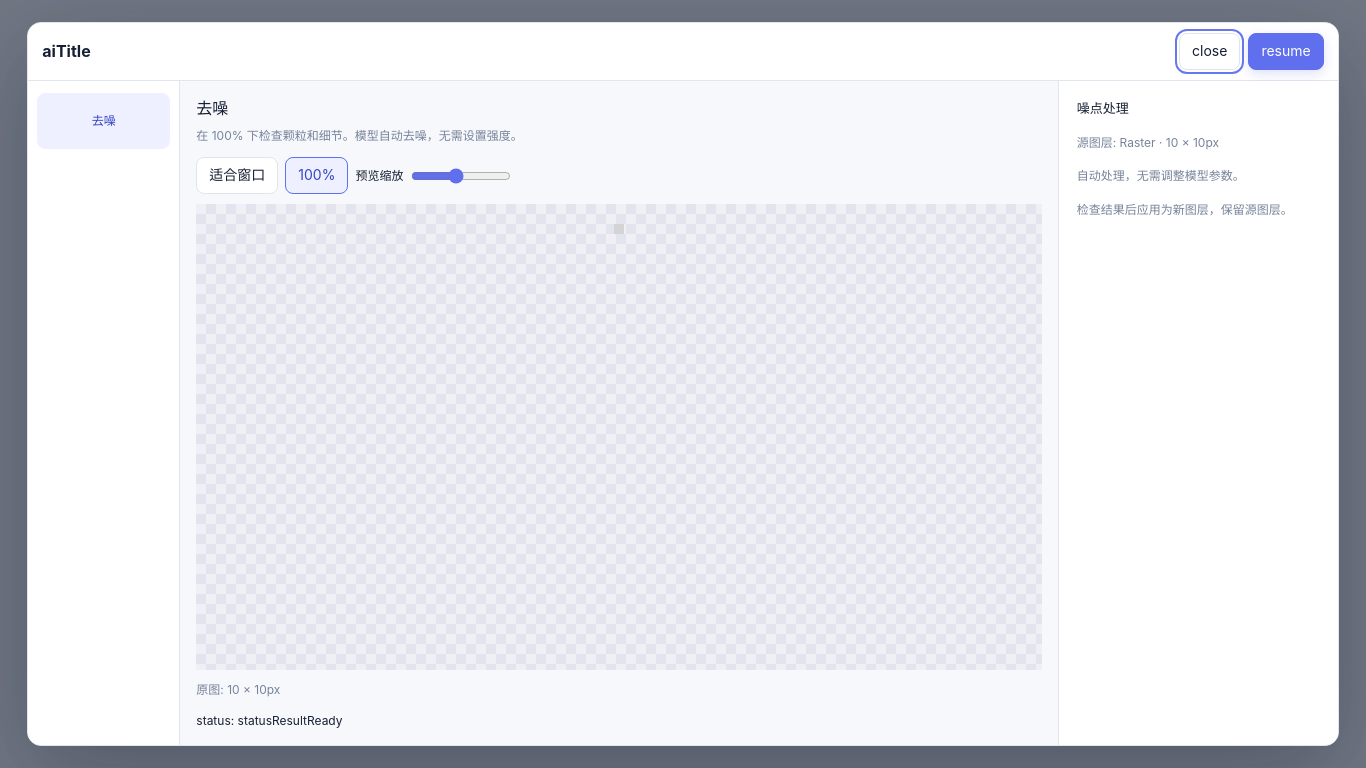
Image Studio AI result recovery dialog › stops only the current browser wait and leaves the same operation resumable
The width and height of the screenshot is (1366, 768).
Step 1. Click the button "resume" → (1286, 51), box 1248,33 -> 1324,70
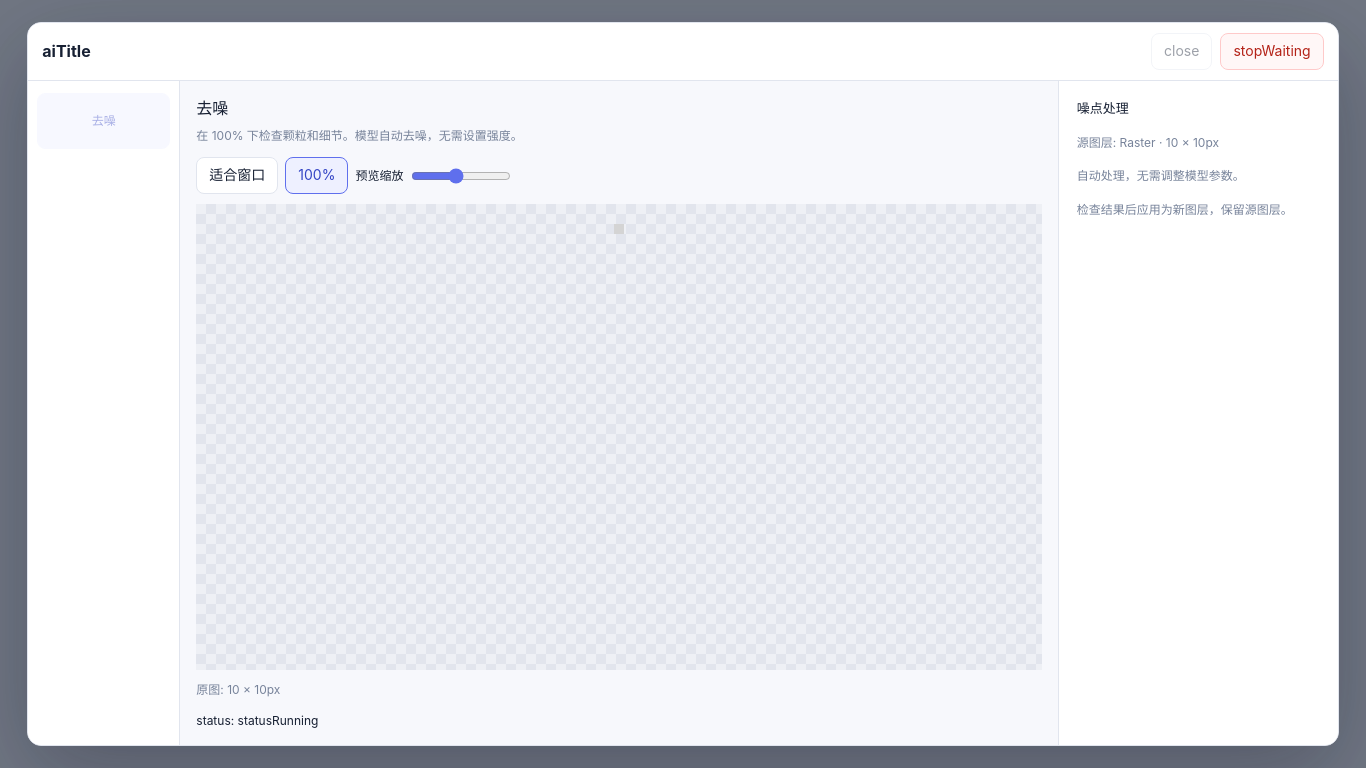
Step 2. Click the button "stopWaiting" → (1272, 51), box 1220,33 -> 1324,70
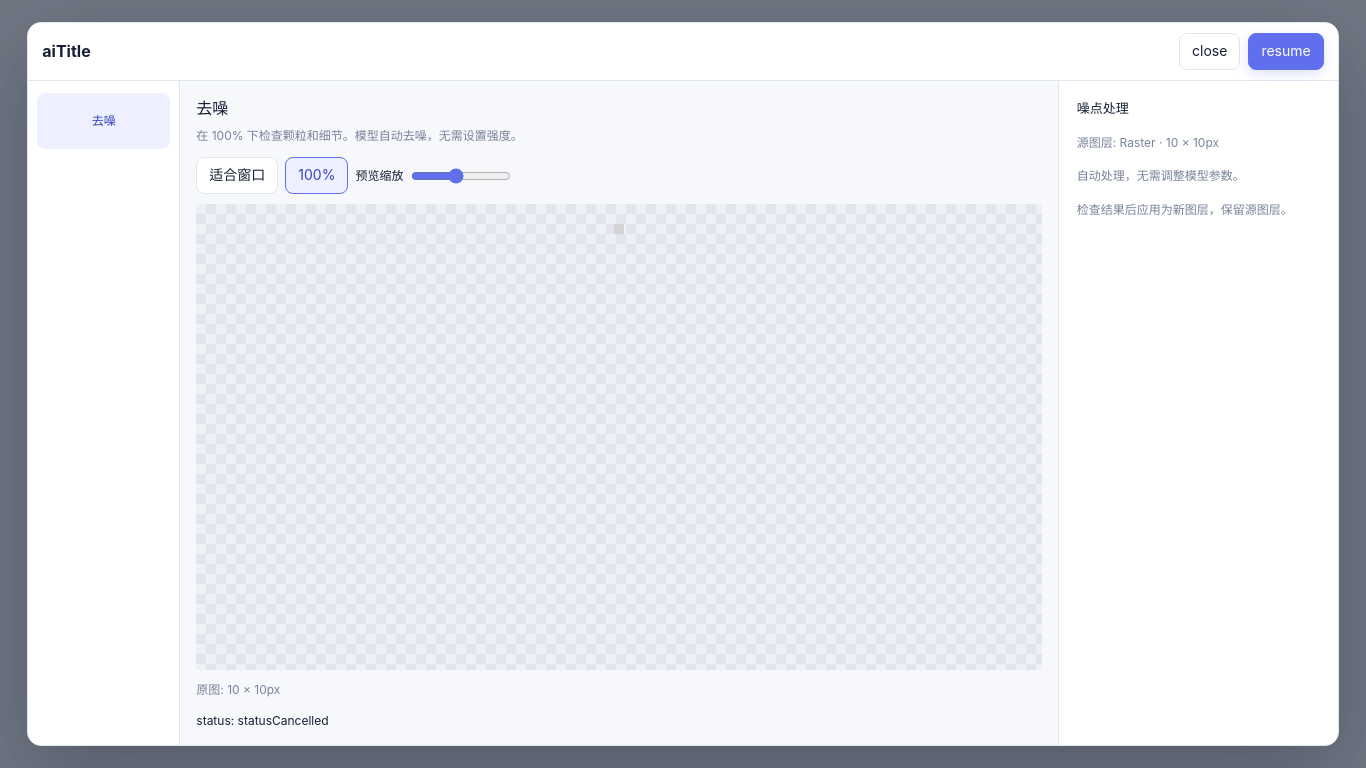
Expected: the button "resume" is enabled, 1248,33 -> 1324,70
Expected: the text "statusCancelled" is shown, 238,713 -> 329,728
Expected: the button "close" is enabled, 1179,33 -> 1240,70
